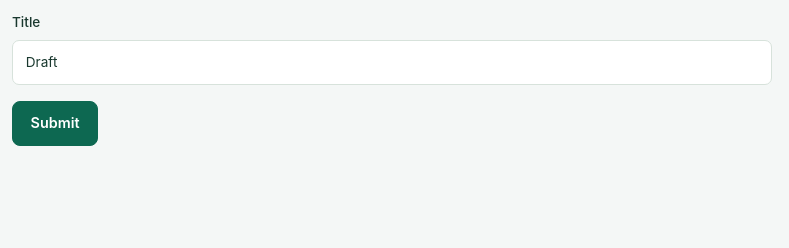
Scenario: real interface states › shows an action failure instead of a success state
Click the button "Submit" at (55, 123), box [12, 101, 98, 146]
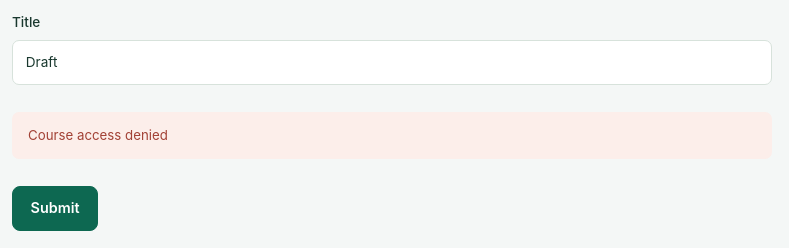
Result: the message reads "Course access denied" at [28, 127, 168, 143]
